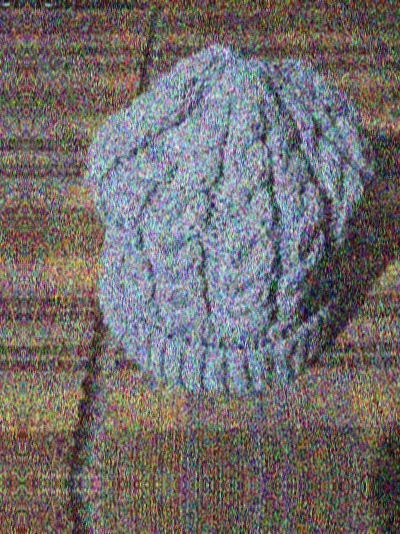Hat: (74, 39, 389, 397)
